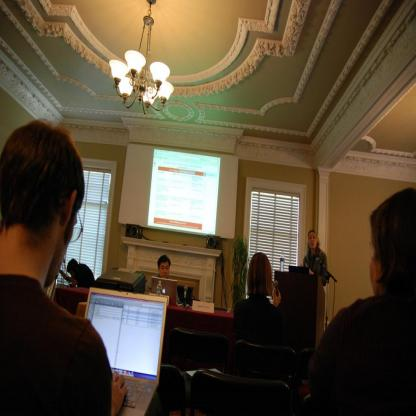board: (74, 284, 169, 416), (151, 277, 178, 304)
